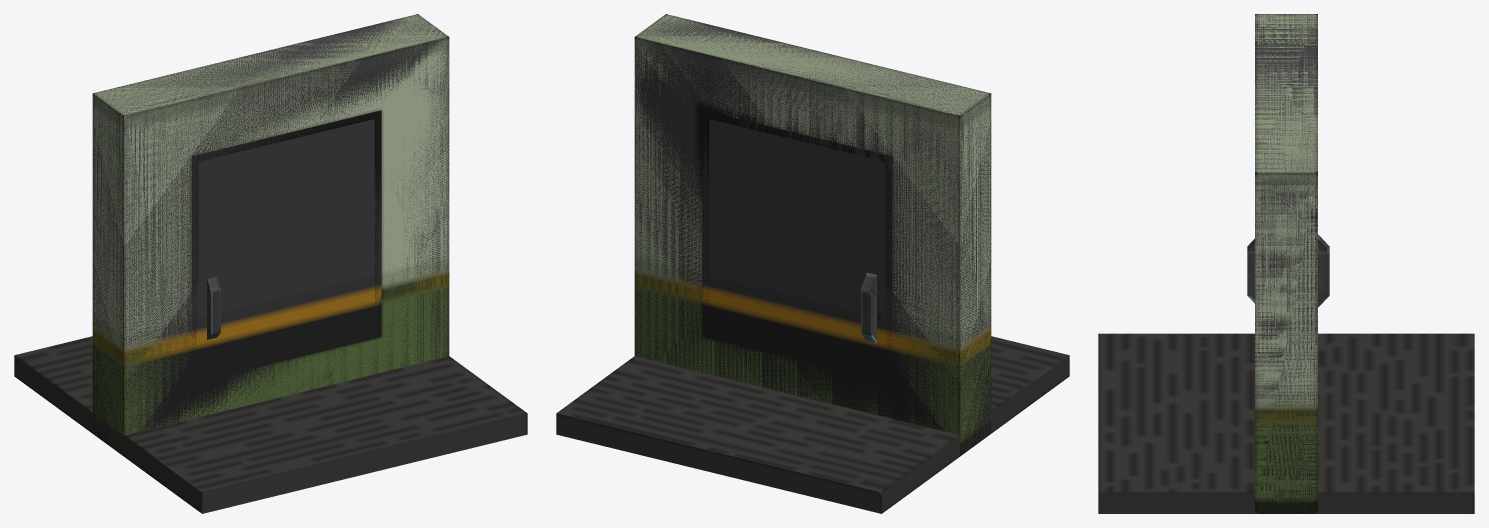
The model's file is Wall.fbx.
The picture shows the model from 3 angles, left to right: view 1: azimuth 30°, elevation 25°; view 2: azimuth 150°, elevation 25°; view 3: azimuth 270°, elevation 25°; orthographic projection.
Visible parts, largest first — view 1: Window, Wall, DoorWall, Floor, cube_6; view 2: Wall, Window, DoorWall, Floor, cube_2; view 3: Floor, Window, DoorWall, Wall, cube_2.
Boxes of the visible parts, x1,y1,x2,y2 form: Window: (92,14,449,452); Wall: (92,14,449,441); DoorWall: (92,15,449,449); Floor: (14,336,527,513); cube_6: (207,287,220,334); Wall: (634,14,991,456); Window: (634,14,991,454); DoorWall: (634,15,991,454); Floor: (556,336,1069,513); cube_2: (861,289,876,335); Floor: (1098,333,1474,513); Window: (1255,14,1317,513); DoorWall: (1255,14,1317,513); Wall: (1255,14,1317,513); cube_2: (1318,246,1329,295).
Bounding box in the file's own units: 300 × 300 × 300.
